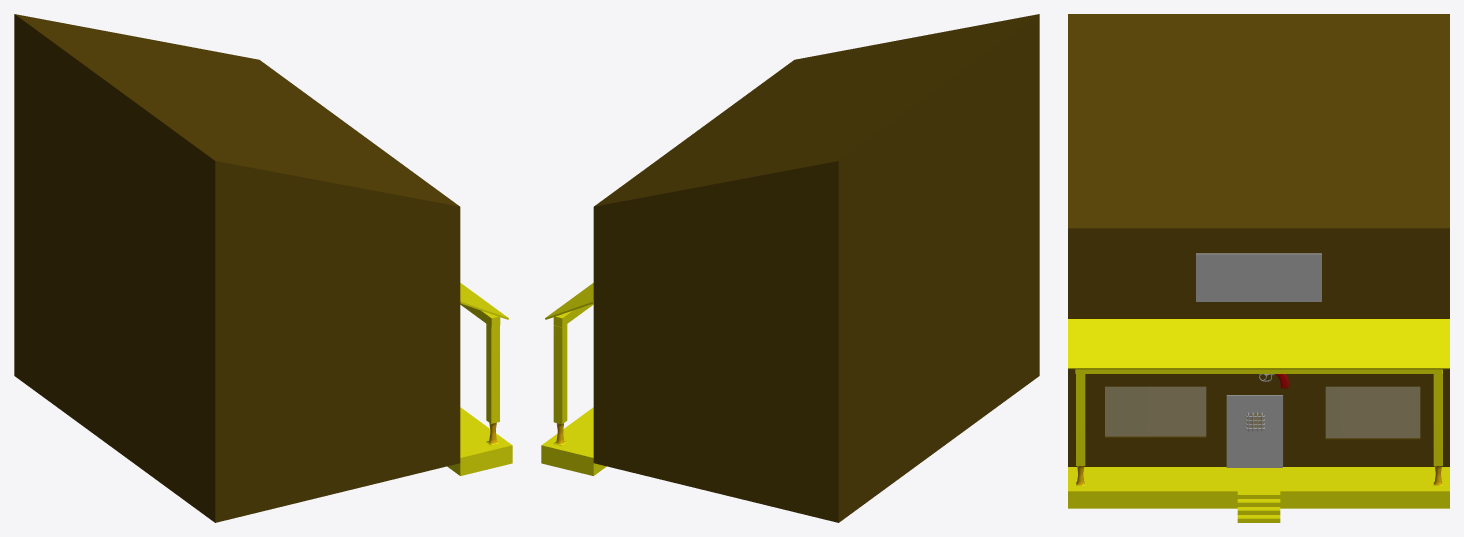
File: Gunstore.fbx
3 views of the same model, side by side, from view 1: azimuth 30°, elevation 25°; view 2: azimuth 150°, elevation 25°; view 3: azimuth 270°, elevation 25° (orthographic). The views are drawn at different scales.
Visible parts, largest first — view 1: pPlane1, pCube1, pCube9, pCube12; view 2: pPlane1, pCube1, pCube9, pCube12; view 3: pPlane1, pCube12, pCube1, pCube13, pCube10, pCube11, pCube3, pCube9, pCube7, pCube2.
Boxes of the visible parts, x1,y1,x2,y2 form: pPlane1: (14,14,460,522); pCube1: (447,407,512,475); pCube9: (486,324,499,445); pCube12: (460,283,508,319); pPlane1: (593,14,1039,522); pCube1: (541,407,606,475); pCube9: (553,324,567,445); pCube12: (545,283,593,319); pPlane1: (1068,14,1449,466); pCube12: (1068,319,1449,369); pCube1: (1068,467,1449,508); pCube13: (1196,253,1321,301); pCube10: (1105,386,1206,436); pCube11: (1325,386,1420,437); pCube3: (1226,395,1282,467); pCube9: (1076,370,1442,486); pCube7: (1075,369,1442,373); pCube2: (1237,491,1280,522).
Bounding box in the file's own units: 37.75 × 41.22 × 40.
